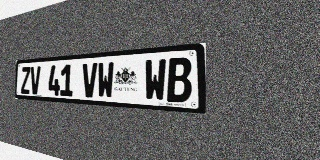1: (60, 64, 73, 96)
4: (48, 65, 60, 96)
B: (167, 57, 192, 103)
V: (82, 63, 97, 98), (30, 66, 40, 95)
W: (144, 58, 166, 102), (97, 62, 114, 99)
Z: (21, 67, 30, 94)
